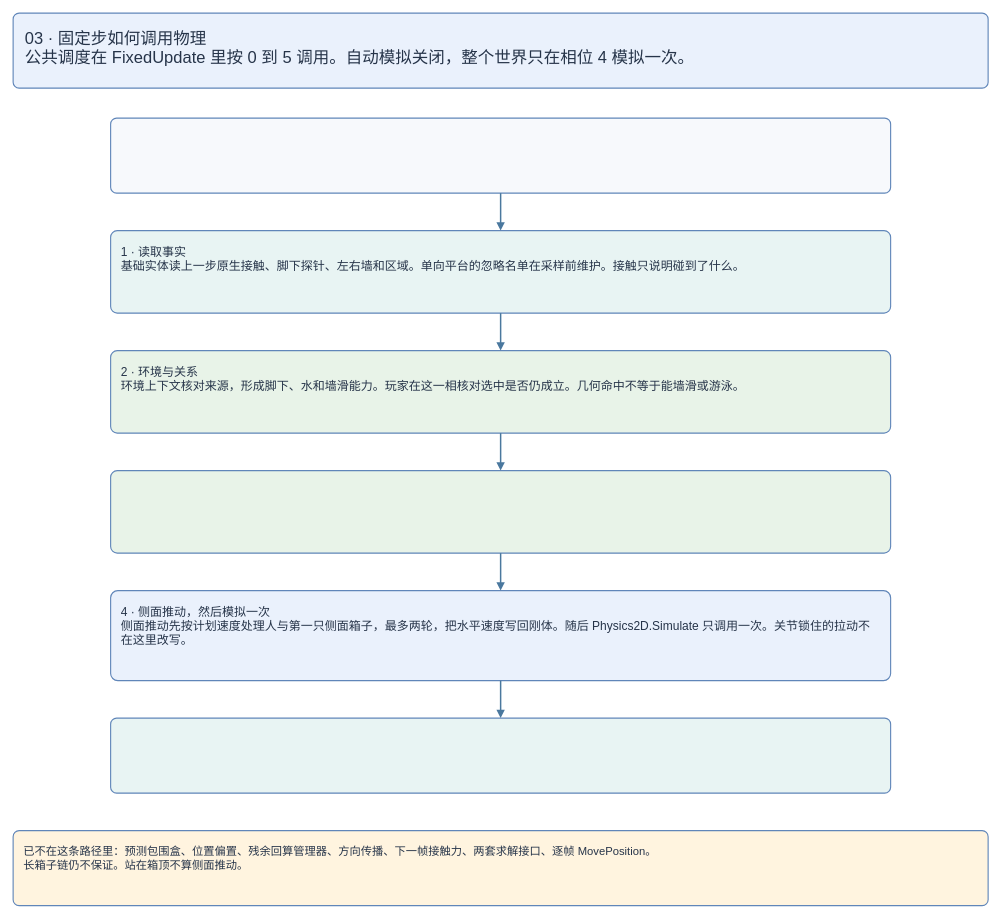
Some shapes in this 1002 by 920 pixel diagram are drawn without their labels. Here are the shapes that lost their labels. From the top down, the centre of each, then its label:
At [500,155]: "0 · 平台与水 平台写下本步 Delta，水更新范围和水位。随后同步几何，后面的探针才看见新位置。".
At [500,511]: "3 · 合成本步计划速度 基础实体用刚体上一步的实际速度，加上动作、被动速度、重力和坡面。静墙、可爬坡和头顶先收进计划，再写入刚体。详见第 4 页。".
At [500,755]: "5 · 回读 读回实际速度，拆开本步命令和被碰撞留下的部分，供下一步和表现使用。观测不反写决策。".
